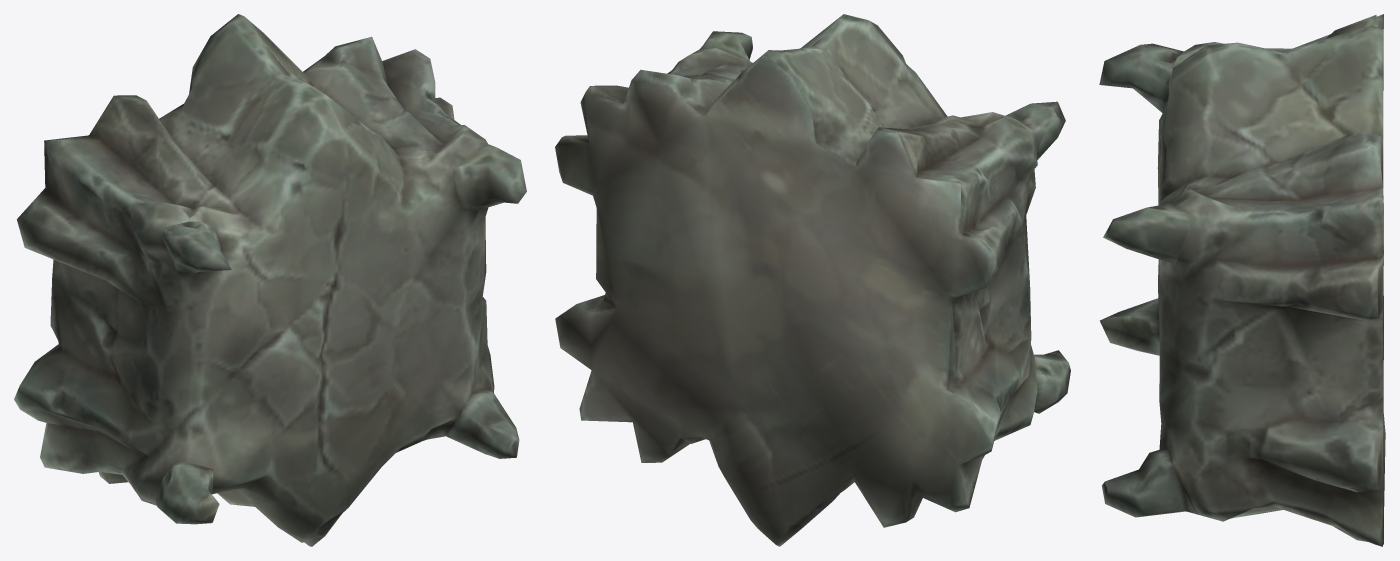
File: Ruins_Pillar_Base_A.fbx
3 views of the same model, side by side, from view 1: azimuth 30°, elevation 25°; view 2: azimuth 150°, elevation 25°; view 3: azimuth 270°, elevation 25° (orthographic). The views are drawn at different scales.
Visible parts, largest first — view 1: Ruins_Pillar_Base_A; view 2: Ruins_Pillar_Base_A; view 3: Ruins_Pillar_Base_A.
Part boxes in pixels (x1,y1,x2,y2): Ruins_Pillar_Base_A: (14,14,526,546); Ruins_Pillar_Base_A: (555,14,1070,546); Ruins_Pillar_Base_A: (1099,14,1385,546).
Size of the model in its own units: 530 by 566 by 288.
